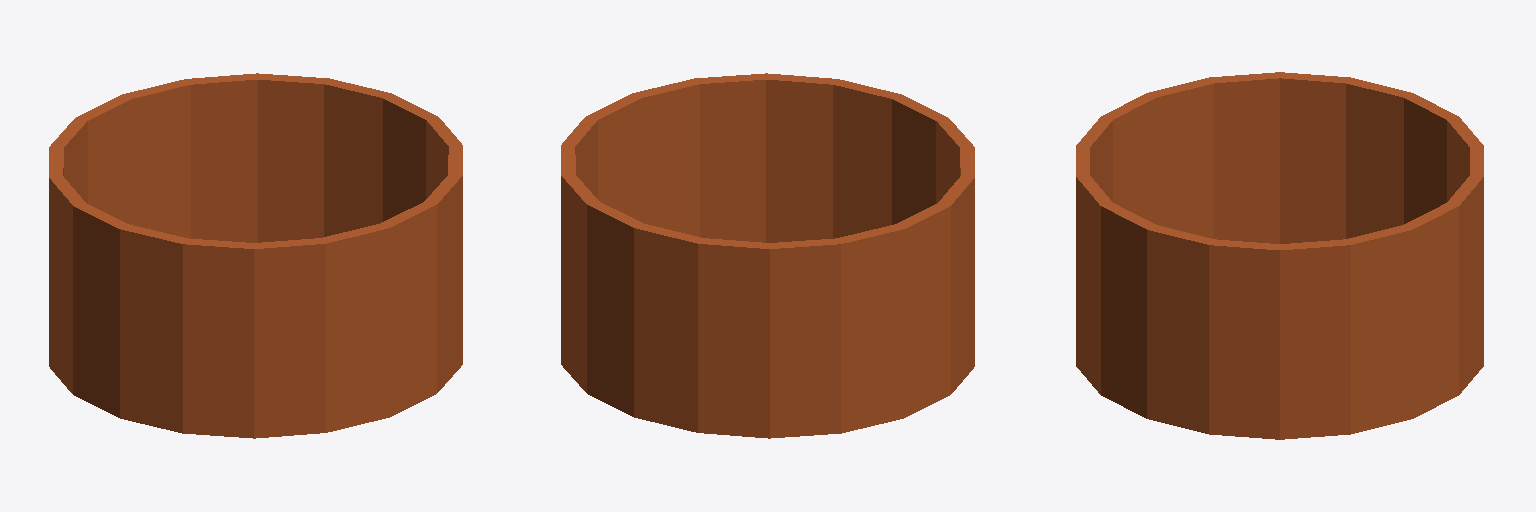
The model's file is lampshade.obj.
3 renders of one model, left to right at view 1: azimuth 30°, elevation 25°; view 2: azimuth 150°, elevation 25°; view 3: azimuth 270°, elevation 25°, orthographic.
Visible parts, largest first — view 1: Cylinder001; view 2: Cylinder001; view 3: Cylinder001.
Boxes of the visible parts, box(x1,y1,x2,y2) form: Cylinder001: box(49, 73, 462, 438); Cylinder001: box(561, 73, 974, 438); Cylinder001: box(1076, 72, 1483, 439).
Bounding box in the file's own units: 4.22 × 2.09 × 4.08.